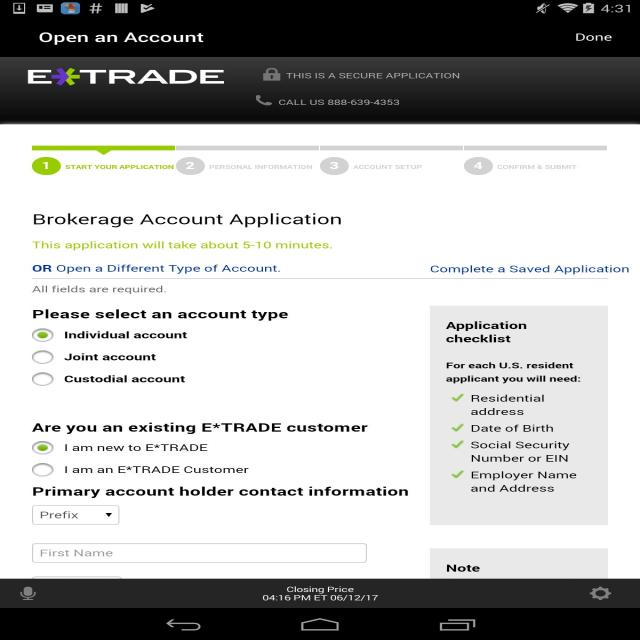button: (35, 504, 120, 524), (564, 27, 622, 49), (10, 580, 48, 606), (582, 582, 620, 606), (27, 368, 59, 389), (29, 348, 58, 367), (29, 438, 56, 458), (29, 328, 57, 346), (29, 462, 57, 478)
field: (35, 542, 368, 564)
heading: (32, 212, 345, 230), (31, 486, 412, 500), (31, 422, 372, 434), (32, 308, 292, 322), (39, 28, 210, 47), (440, 318, 535, 345), (440, 563, 486, 575)
image: (28, 142, 614, 154), (21, 65, 231, 90), (460, 157, 493, 177), (31, 157, 62, 178), (316, 157, 350, 175), (175, 154, 206, 173)
label: (61, 464, 252, 476), (55, 441, 216, 454), (63, 371, 189, 386), (60, 328, 190, 342), (62, 349, 160, 365), (39, 547, 116, 560)
link: (27, 262, 287, 275), (427, 262, 632, 276)
text: (444, 360, 585, 505), (256, 66, 466, 84), (30, 241, 332, 253), (251, 91, 408, 111), (249, 583, 388, 605), (64, 160, 171, 173), (32, 286, 167, 296), (210, 162, 314, 173), (495, 160, 581, 173), (350, 161, 428, 173)
